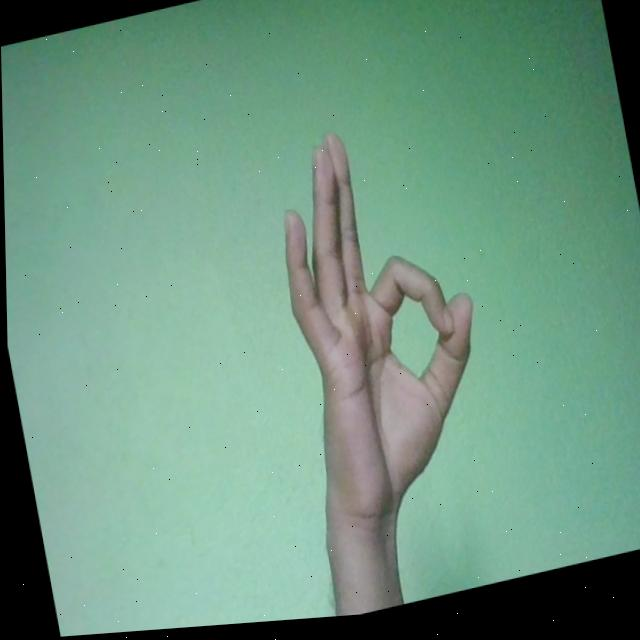Ok: (260, 110, 505, 545)
